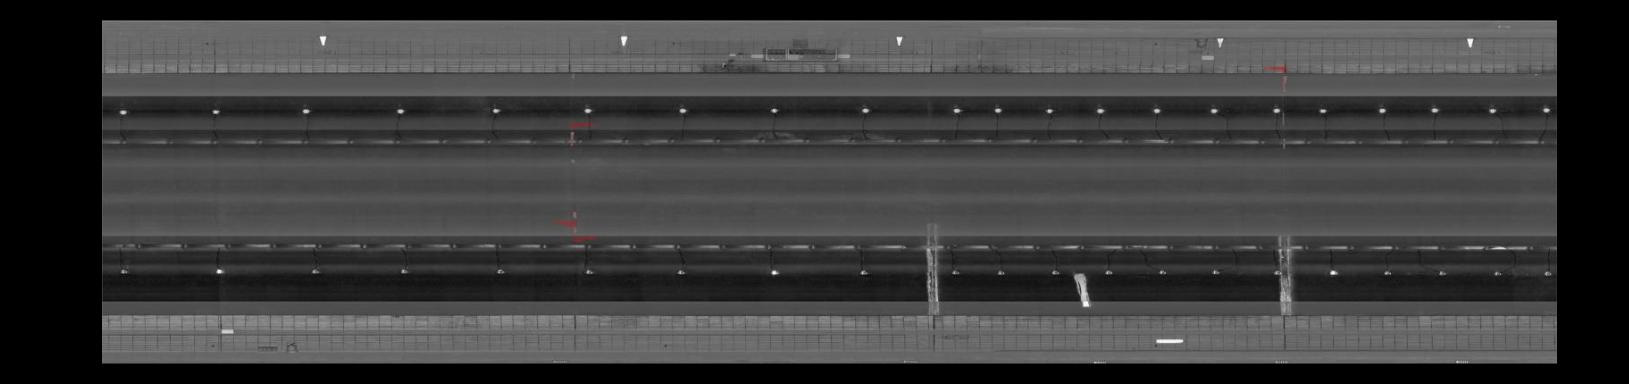light: (763, 265, 784, 278), (853, 104, 876, 116), (578, 104, 598, 116), (306, 265, 325, 278), (766, 103, 784, 116), (491, 265, 511, 277), (115, 264, 133, 277), (391, 105, 409, 117), (671, 266, 690, 278), (1539, 266, 1553, 281), (210, 264, 226, 277), (1490, 265, 1506, 278), (1483, 103, 1499, 116), (674, 104, 692, 116), (1153, 266, 1171, 278), (1091, 104, 1109, 116), (395, 265, 413, 276), (487, 104, 504, 116), (1373, 104, 1390, 116), (1205, 104, 1222, 116), (580, 267, 597, 278), (854, 267, 872, 278), (1425, 104, 1443, 115), (204, 107, 224, 116), (1538, 104, 1553, 116), (1325, 266, 1341, 277), (297, 106, 315, 116), (1041, 104, 1056, 116), (947, 267, 963, 278), (989, 105, 1005, 116), (1148, 105, 1164, 116), (114, 107, 131, 117), (949, 104, 965, 114), (1100, 267, 1117, 277), (1380, 267, 1396, 277), (992, 267, 1007, 278), (1207, 267, 1222, 278), (1435, 267, 1449, 278), (1316, 105, 1331, 116), (1269, 103, 1283, 114), (1049, 267, 1063, 278), (1269, 267, 1282, 277)
